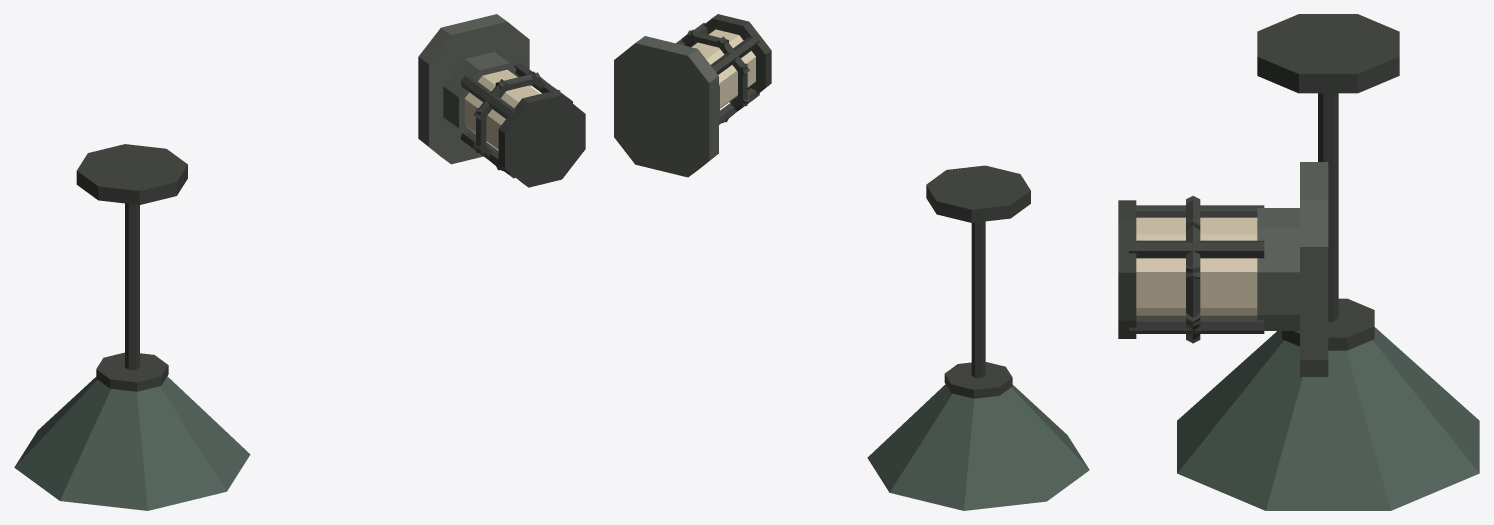
3 renders of one model, left to right at view 1: azimuth 30°, elevation 25°; view 2: azimuth 150°, elevation 25°; view 3: azimuth 270°, elevation 25°, orthographic. The views are drawn at different scales.
Parts seen in each view (by area): view 1: OfficePendant_Shade, OfficePendant_Hanger, CageLamp_Cage, CageLamp_Body, CageLamp_Glass; view 2: OfficePendant_Shade, CageLamp_Body, OfficePendant_Hanger, CageLamp_Cage, CageLamp_Glass; view 3: OfficePendant_Shade, OfficePendant_Hanger, CageLamp_Body, CageLamp_Cage, CageLamp_Glass.
Boxes of the visible parts, x1,y1,x2,y2 form: OfficePendant_Shade: (14,376,250,510); OfficePendant_Hanger: (76,144,187,391); CageLamp_Cage: (460,62,585,187); CageLamp_Body: (418,14,530,164); CageLamp_Glass: (464,69,539,150); OfficePendant_Shade: (867,384,1089,510); CageLamp_Body: (614,36,719,177); OfficePendant_Hanger: (926,165,1030,398); CageLamp_Cage: (676,14,771,124); CageLamp_Glass: (691,29,755,108); OfficePendant_Shade: (1177,327,1479,510); OfficePendant_Hanger: (1257,14,1399,350); CageLamp_Body: (1257,162,1328,376); CageLamp_Cage: (1118,196,1264,343); CageLamp_Glass: (1136,217,1257,315).
Bounding box in the file's own units: 430 × 305 × 203.
